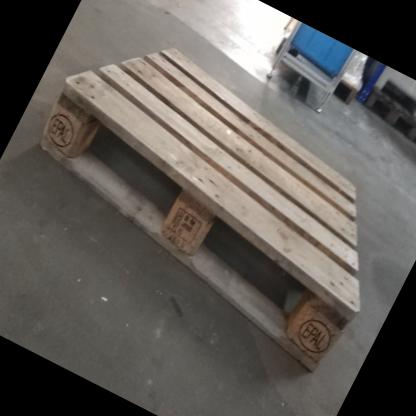BoxFace: (33, 40, 363, 376)
